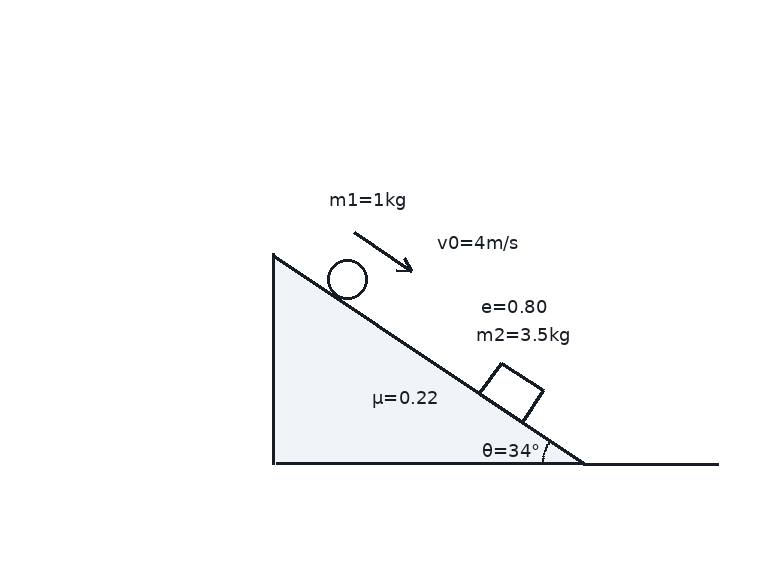ball: (325, 257, 369, 301)
block: (478, 360, 545, 424)
ramp: (273, 253, 585, 465)
